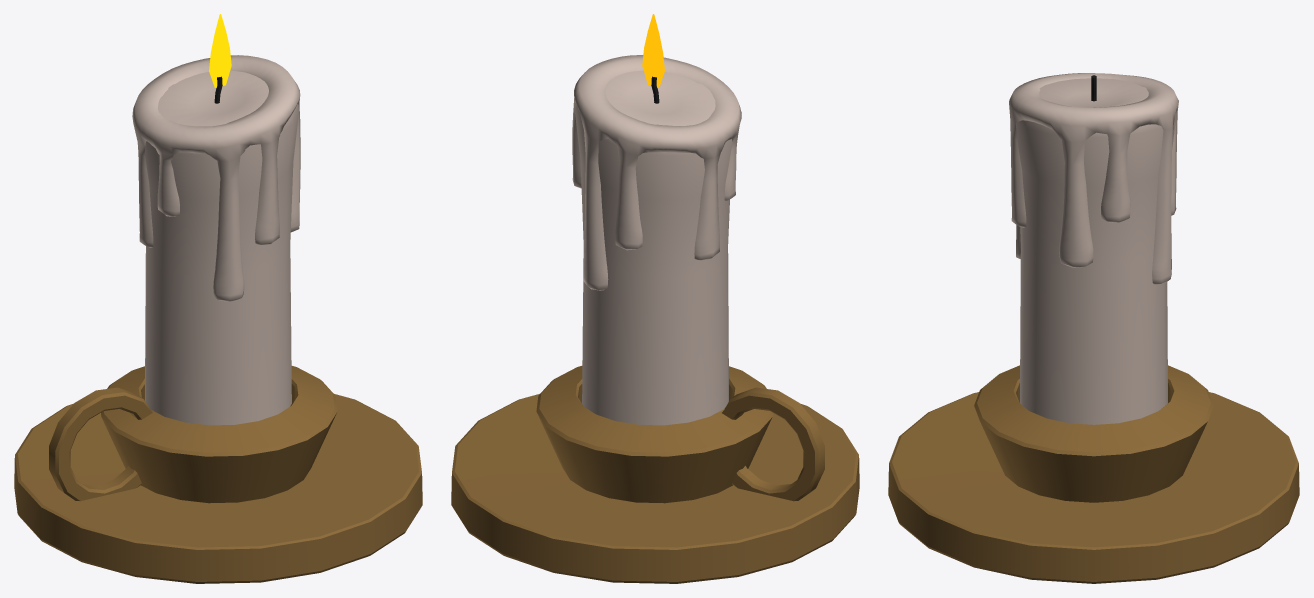
The model's file is Candle.fbx.
3 views of the same model, side by side, from view 1: azimuth 30°, elevation 25°; view 2: azimuth 150°, elevation 25°; view 3: azimuth 270°, elevation 25° (orthographic).
Visible parts, largest first — view 1: candle; view 2: candle; view 3: candle.
Boxes of the visible parts, x1,y1,x2,y2 form: candle: (14, 14, 422, 583); candle: (451, 14, 859, 583); candle: (888, 73, 1299, 583).
Bounding box in the file's own units: 68.36 × 88.8 × 68.36.
